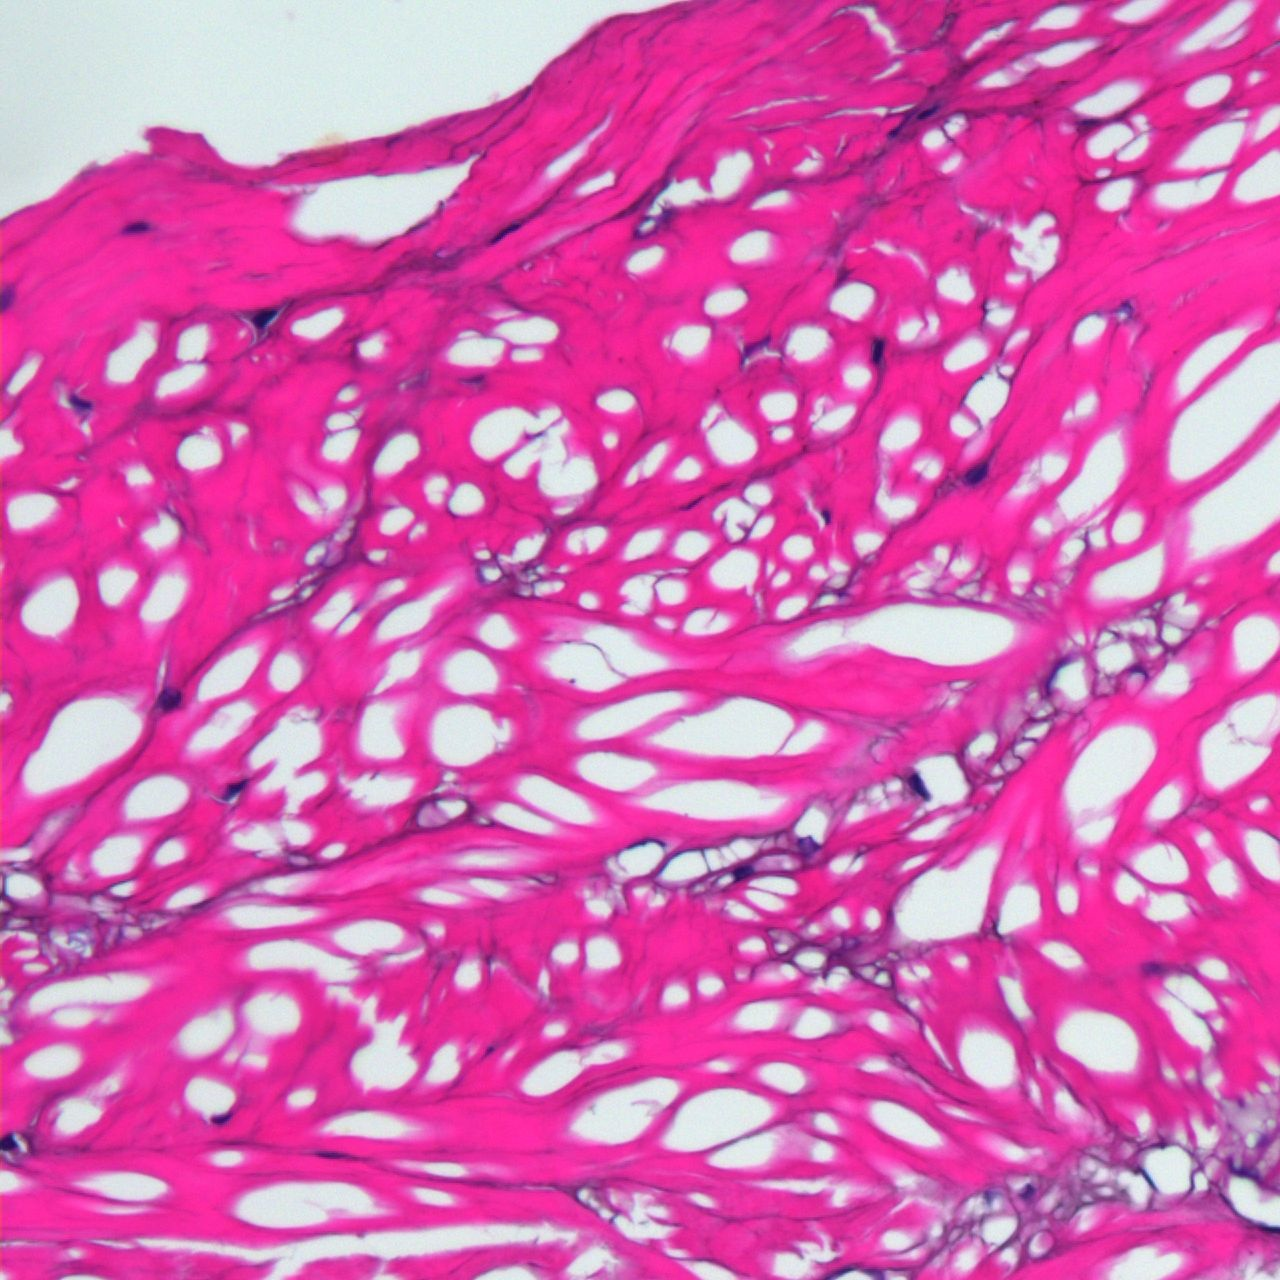nucleus-HE: (217, 770, 254, 805), (903, 768, 938, 803), (958, 455, 993, 490), (245, 302, 280, 334), (63, 386, 98, 416), (1136, 1163, 1159, 1193), (157, 687, 182, 713), (118, 219, 154, 234), (315, 1148, 352, 1160), (870, 336, 885, 362), (731, 862, 754, 879), (211, 1110, 233, 1125), (1017, 1183, 1035, 1201), (1, 1132, 16, 1152), (821, 506, 832, 525)
